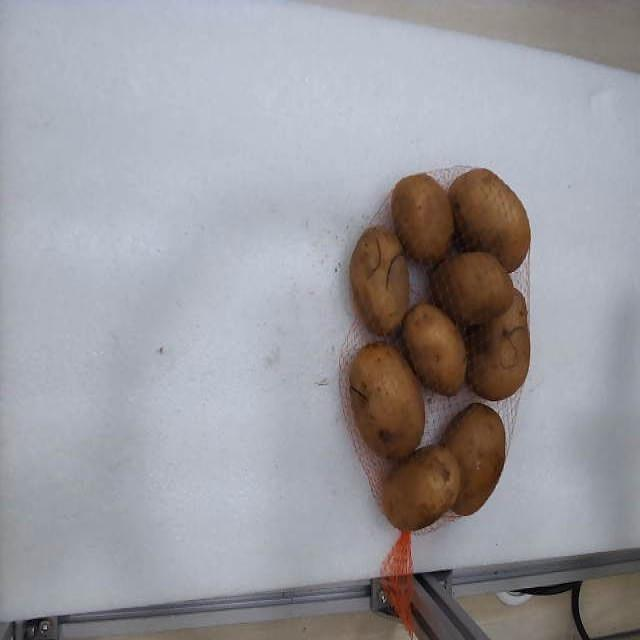potato: (449, 168, 530, 272), (350, 345, 424, 458), (444, 403, 505, 515), (468, 290, 530, 399), (350, 227, 409, 335), (384, 447, 460, 530), (431, 252, 512, 326), (402, 302, 464, 396), (392, 175, 454, 262)
